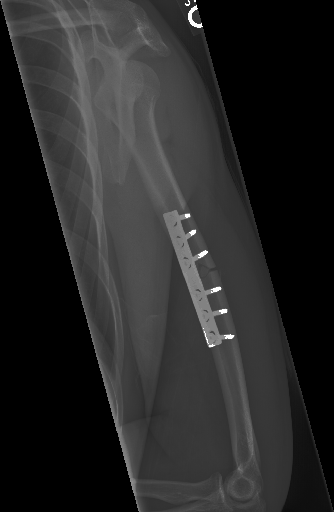implant: (165, 207, 235, 349)
